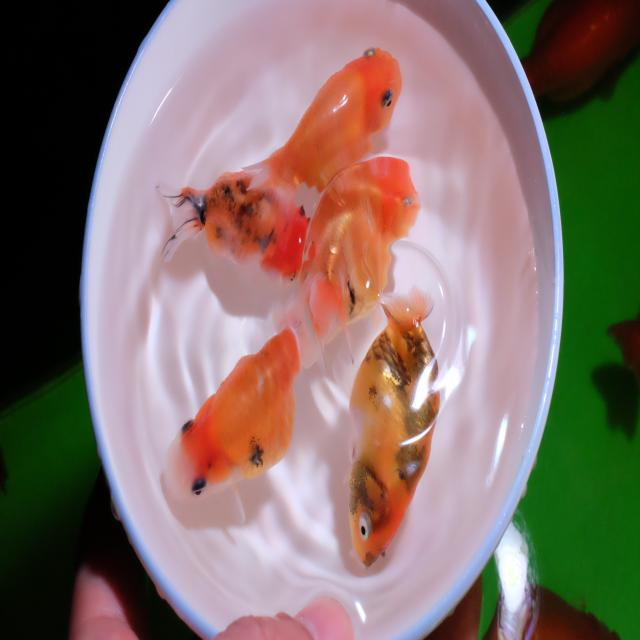Goldfish: (274, 154, 422, 373), (346, 282, 445, 570), (242, 41, 406, 190), (165, 326, 301, 502), (151, 167, 317, 294)
